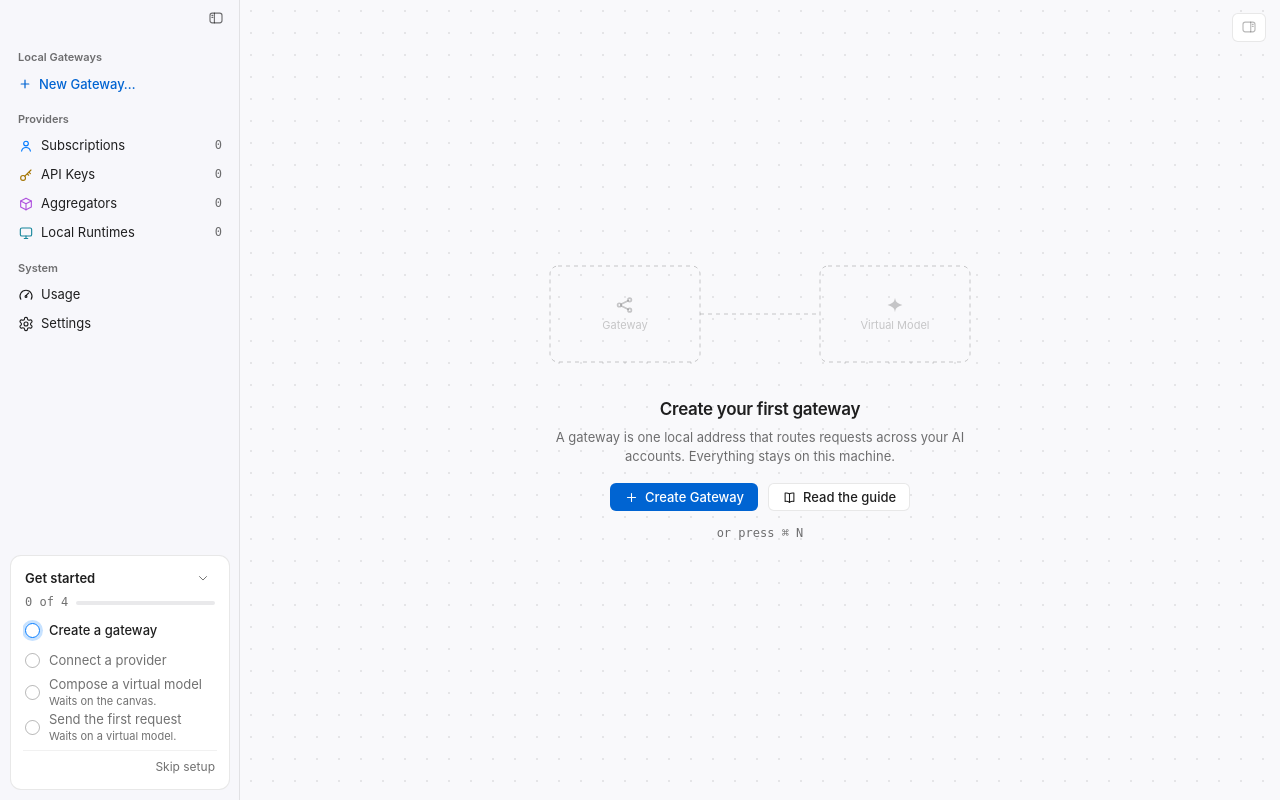
Scenario: the System group reaches the usage screen
Click the link "Usage" at (49, 295), box [18,286,80,303]
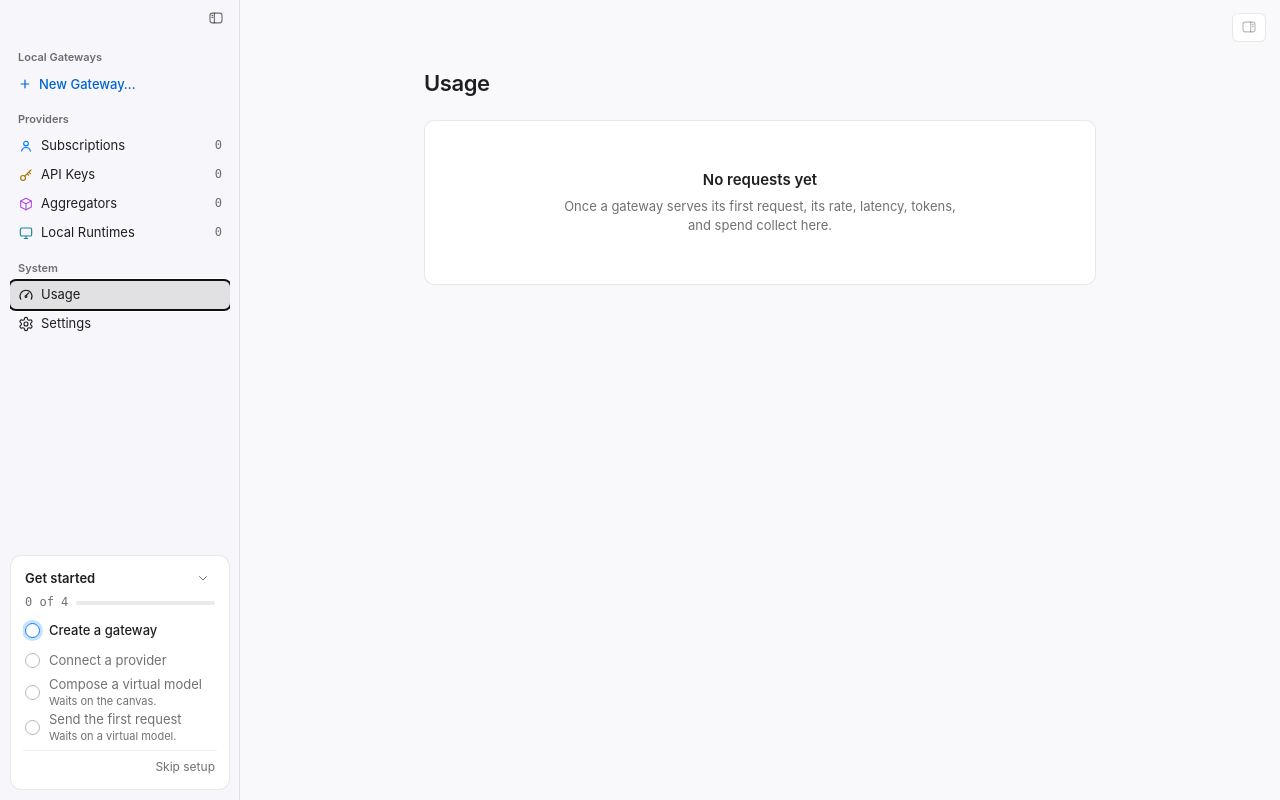
Expected: the heading "Usage" is shown, [424,70,490,96]
